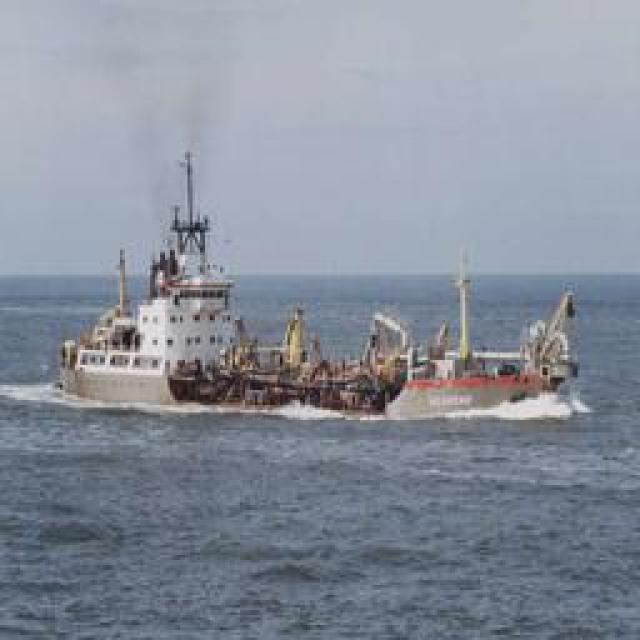Ship: (47, 146, 597, 424)
